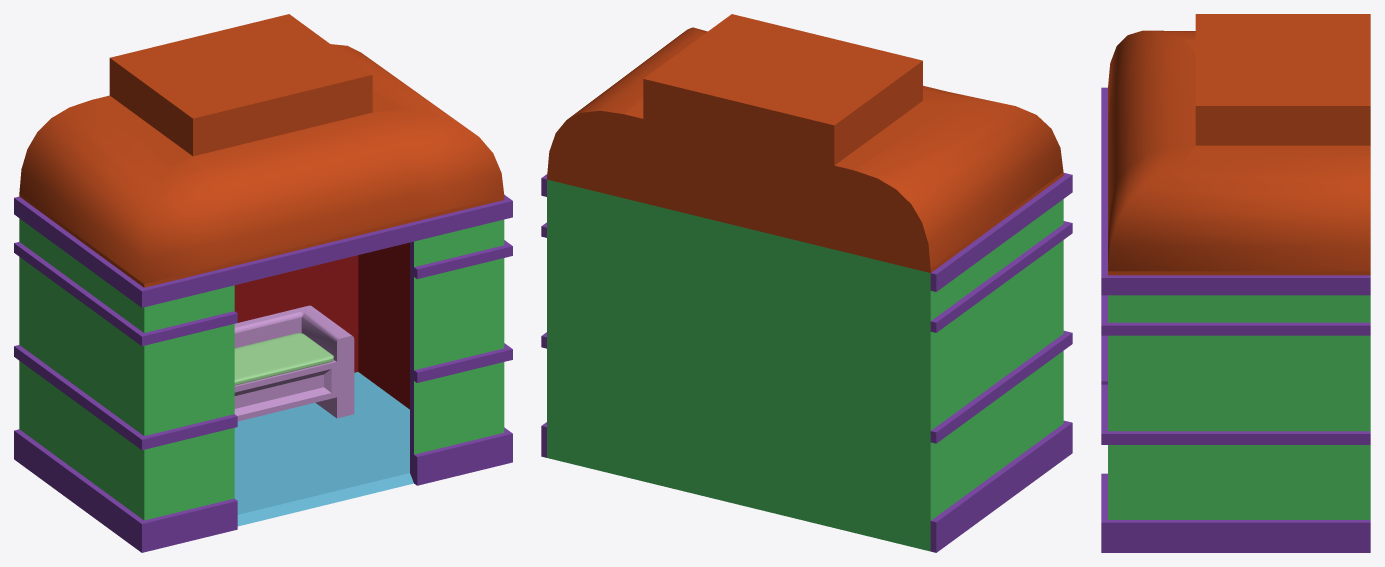
Rendered from Elevator.FBX.
3 views of the same model, side by side, from view 1: azimuth 30°, elevation 25°; view 2: azimuth 150°, elevation 25°; view 3: azimuth 270°, elevation 25° (orthographic). The views are drawn at different scales.
Parts seen in each view (by area): view 1: Elevator, Bench; view 2: Elevator; view 3: Elevator.
Part boxes in pixels (left/top/right/bottom): Elevator: left=14, top=14, right=512, bottom=552; Bench: left=234, top=305, right=354, bottom=421; Elevator: left=541, top=14, right=1072, bottom=552; Elevator: left=1101, top=14, right=1370, bottom=552.
Bounding box in the file's own units: 5.15 × 5.02 × 3.08.
